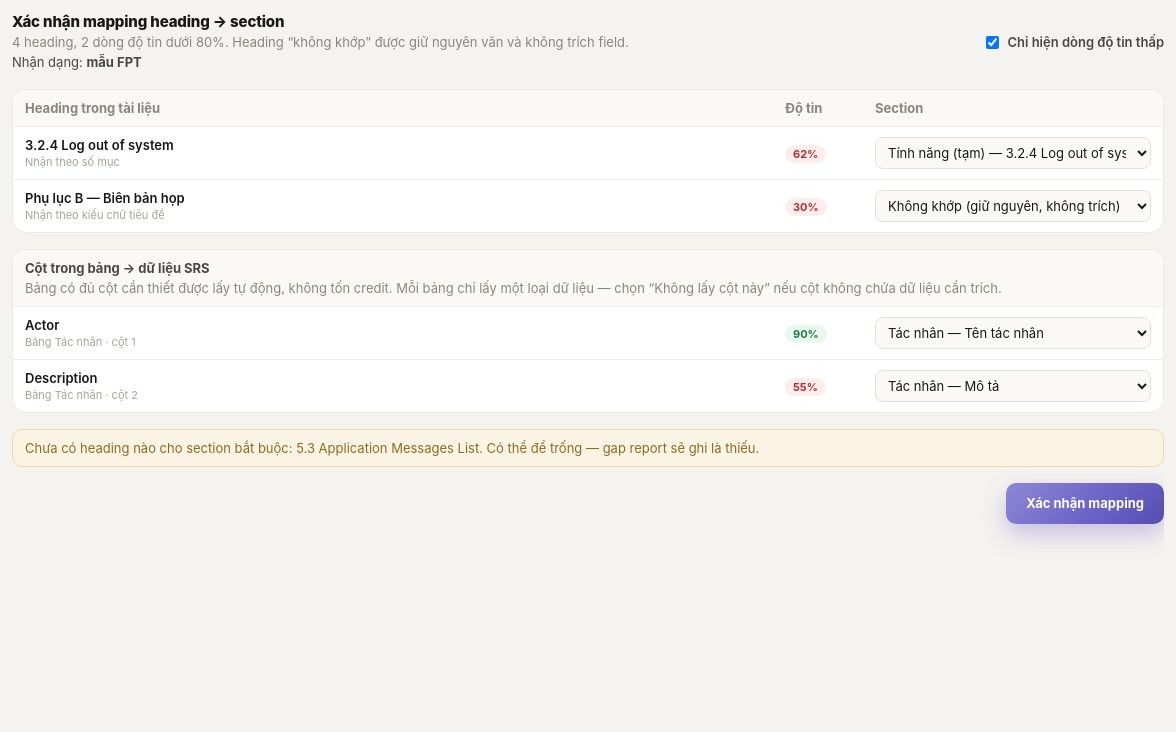
Test case: MappingReviewTable — xác nhận mapping heading → section (UC-21, 1.7) › section bắt buộc chưa có heading ⇒ cảnh báo; gán heading vào section đó thì hết cảnh báo
The image size is (1176, 732).
expect the text "Chưa có heading nào cho section bắt buộc: 5.3 Application Messages List" is shown: met, box top-left (12, 429), bottom-right (1164, 467)
Select "5.3 Application Messages List" in the dropdown named "Section cho Phụ lục B — Biên bản họp" at [1013, 206], box top-left (875, 190), bottom-right (1151, 222)
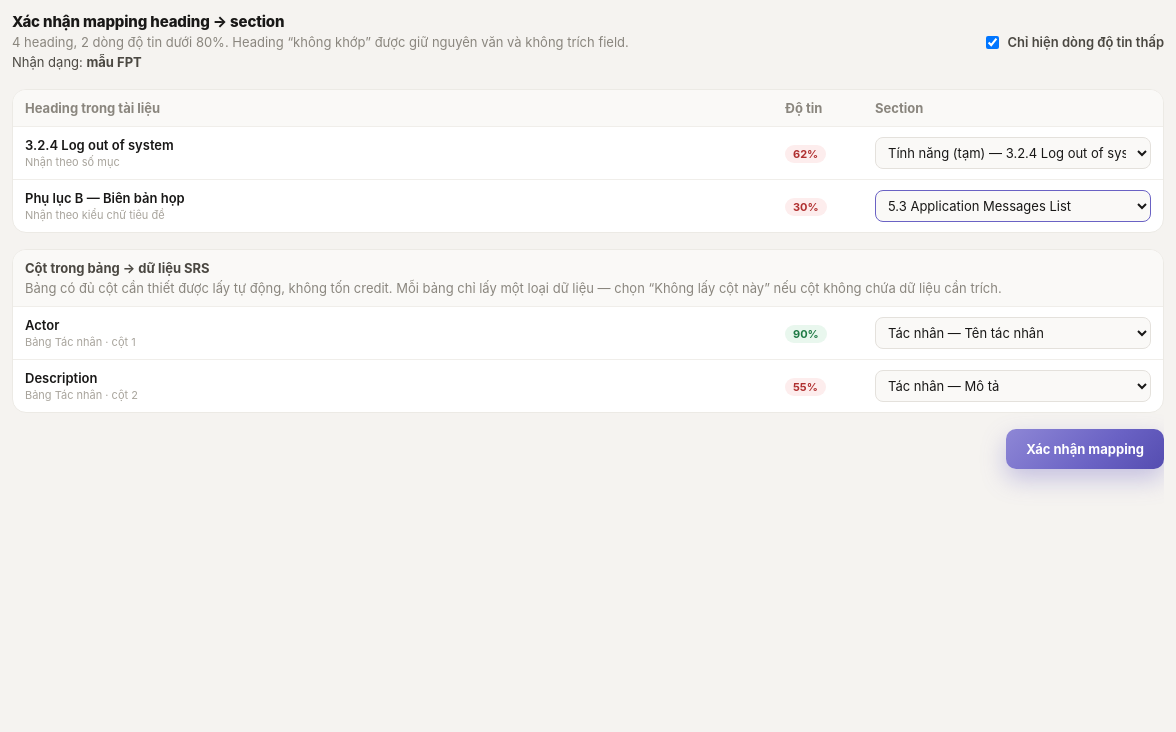
expect the text "Chưa có heading nào cho section bắt buộc" is gone: met
